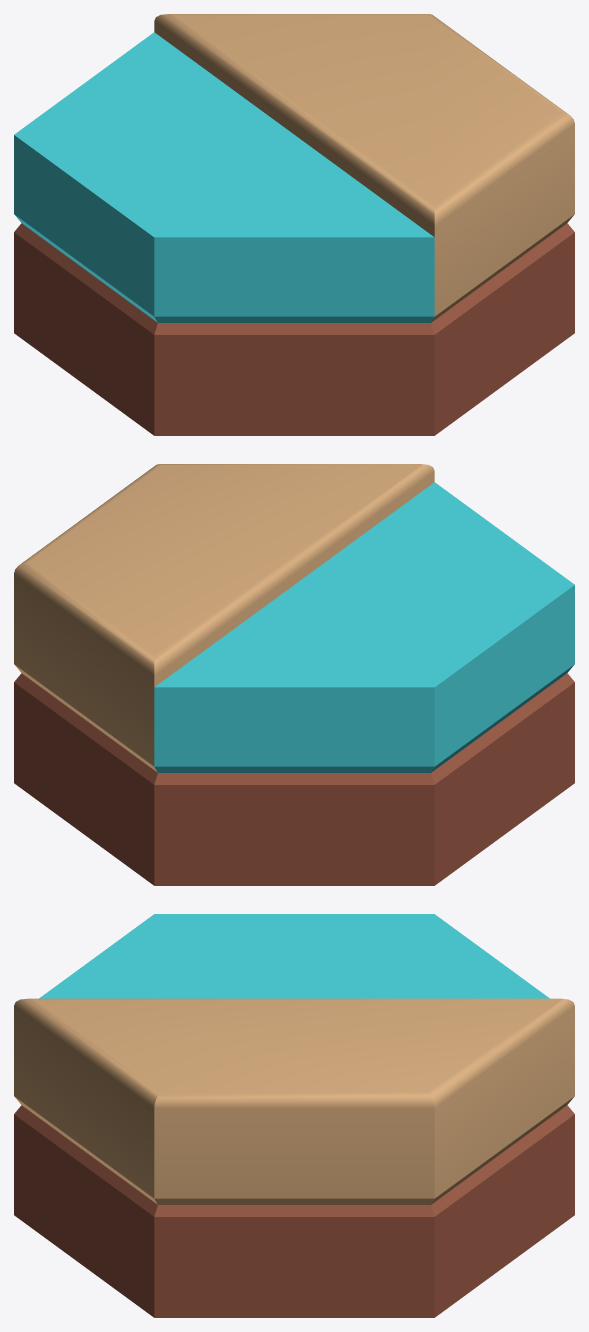
File: hex_sand_waterB_detail.glb
3 views of the same model, one above another, from view 1: azimuth 30°, elevation 25°; view 2: azimuth 150°, elevation 25°; view 3: azimuth 270°, elevation 25° (orthographic).
Parts seen in each view (by area): view 1: hex_sand_waterB_detail; view 2: hex_sand_waterB_detail; view 3: hex_sand_waterB_detail.
Part boxes in pixels (x1,y1,x2,y2): hex_sand_waterB_detail: (14,14,574,435); hex_sand_waterB_detail: (14,464,574,885); hex_sand_waterB_detail: (14,914,574,1317).
Bounding box in the file's own units: 2 × 1 × 2.31.
